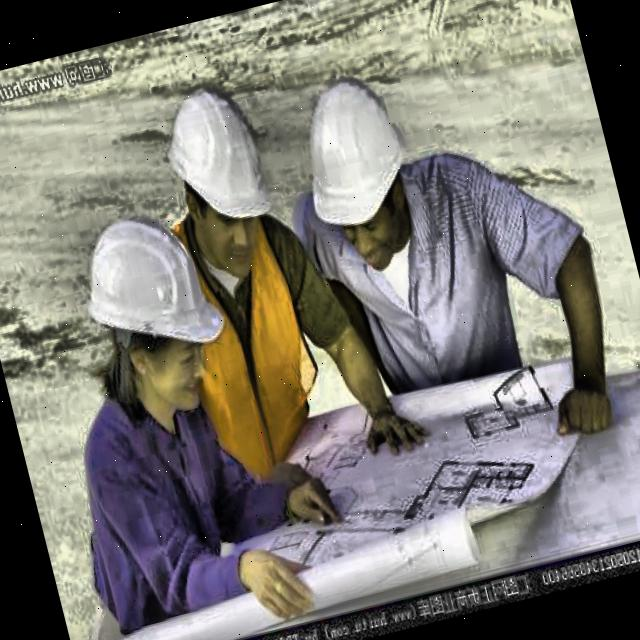helmet: (64, 195, 238, 428), (284, 66, 443, 284), (148, 70, 303, 288)
